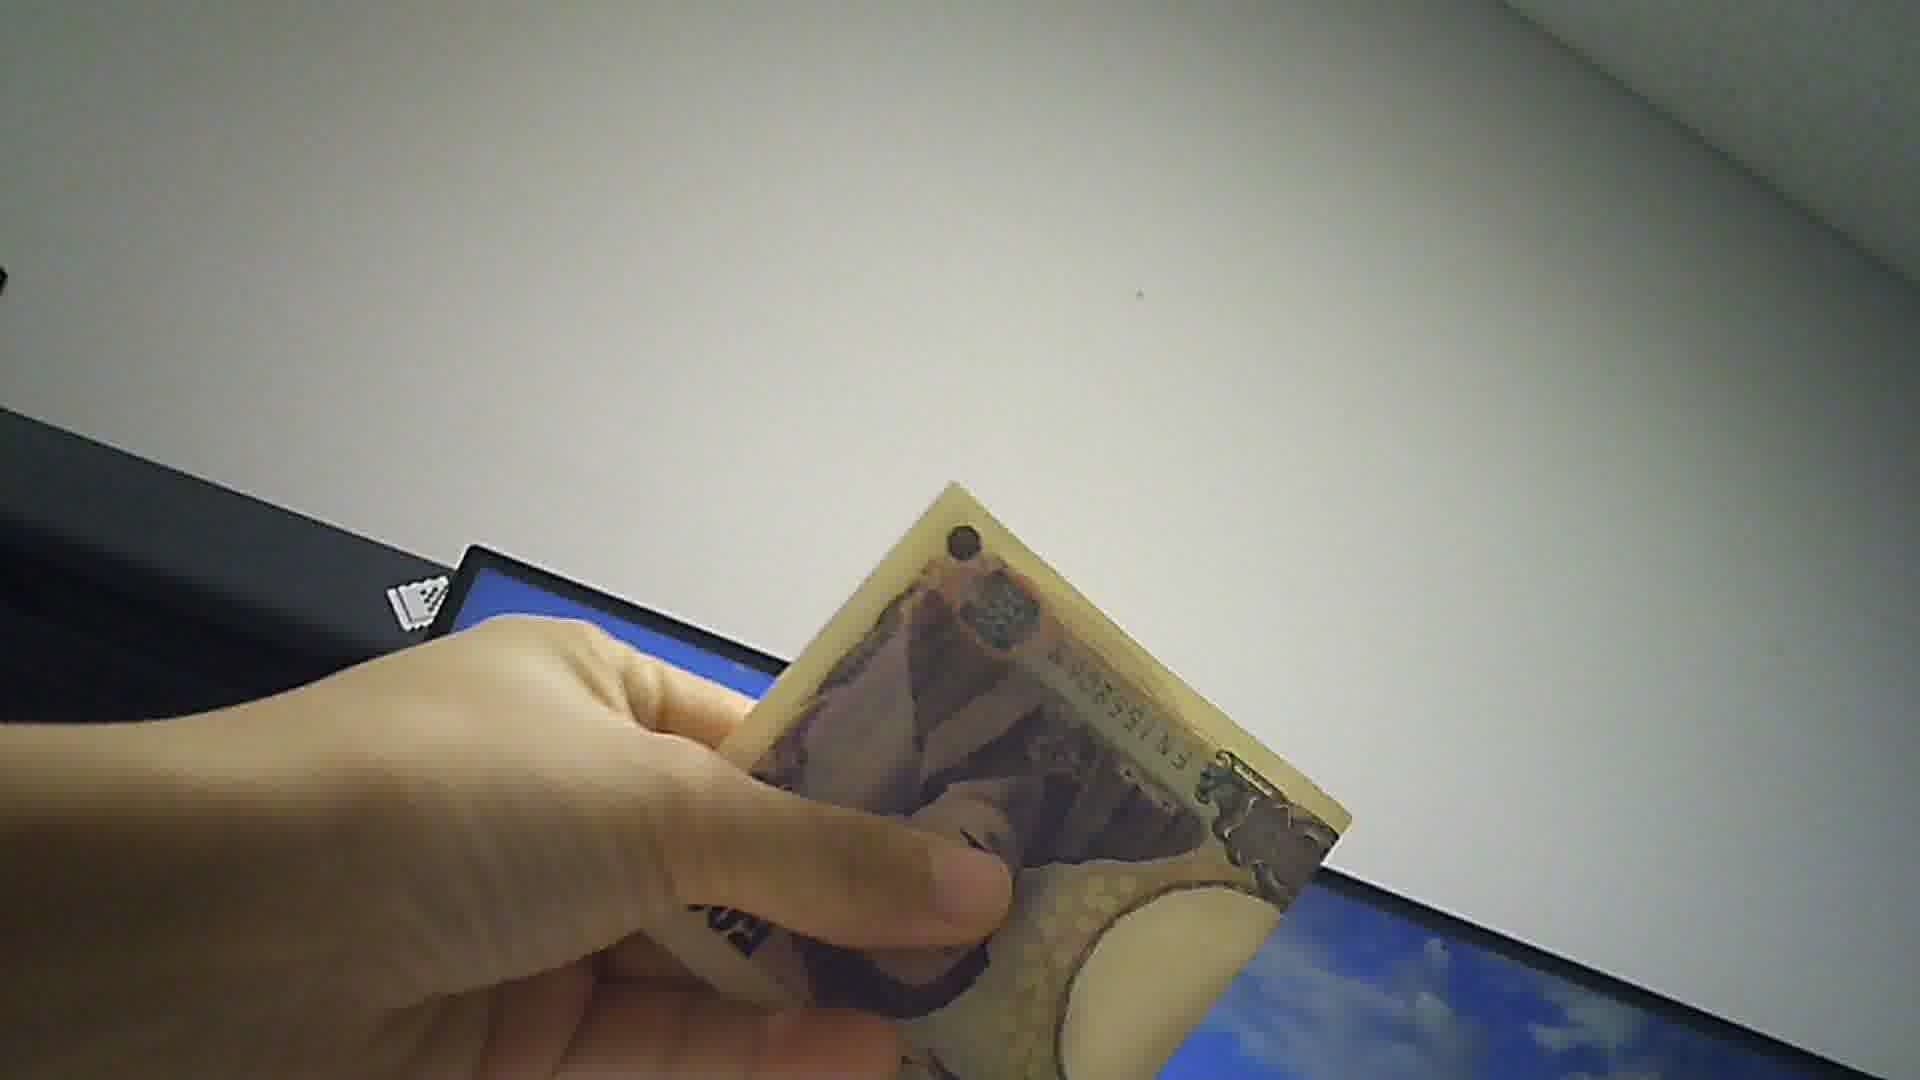5,000 Yen: (657, 464, 1337, 1067)
